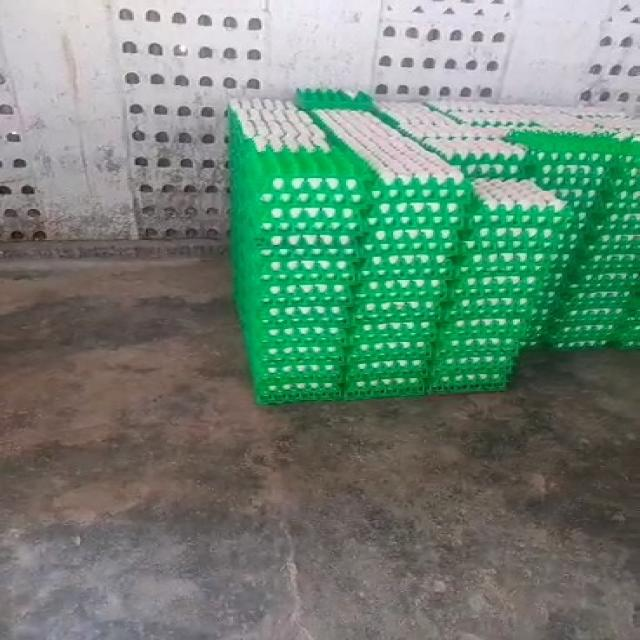egg_tray: (320, 112, 464, 396), (235, 101, 360, 400), (115, 1, 266, 239), (433, 181, 567, 390), (433, 181, 563, 390), (322, 111, 466, 272), (336, 116, 466, 280), (320, 111, 466, 255), (231, 101, 362, 257), (233, 99, 363, 245), (231, 102, 357, 232), (381, 103, 593, 177), (466, 181, 572, 321), (537, 137, 637, 283), (117, 1, 266, 95), (376, 0, 513, 98), (130, 103, 226, 239), (317, 110, 463, 197), (237, 244, 353, 343), (242, 290, 346, 400), (235, 219, 357, 308), (259, 114, 363, 218), (346, 279, 442, 390), (250, 155, 363, 249), (461, 181, 572, 276), (243, 301, 346, 399), (551, 230, 637, 347), (238, 172, 362, 253), (348, 276, 445, 377), (548, 237, 637, 347), (231, 101, 327, 201), (243, 299, 346, 390), (468, 181, 572, 270), (510, 132, 623, 213), (238, 275, 348, 357), (558, 213, 638, 325), (238, 236, 355, 308), (235, 188, 357, 257), (0, 72, 50, 240), (377, 101, 600, 138), (527, 204, 584, 346), (363, 201, 464, 280), (237, 223, 357, 289), (243, 281, 350, 355), (362, 203, 463, 281), (428, 312, 525, 391), (428, 311, 525, 390), (457, 246, 555, 320), (348, 312, 435, 394), (245, 292, 348, 359), (518, 139, 612, 210), (581, 0, 638, 110), (243, 303, 346, 361), (245, 321, 344, 377), (228, 106, 261, 272), (348, 312, 435, 372), (377, 102, 510, 141), (430, 101, 595, 132), (231, 98, 327, 151), (261, 157, 362, 204), (355, 277, 445, 324), (0, 157, 50, 240), (247, 249, 353, 285), (424, 139, 523, 177), (363, 219, 456, 258), (602, 134, 638, 232), (437, 317, 525, 356), (355, 274, 445, 312), (536, 105, 638, 138), (256, 203, 360, 235), (362, 243, 450, 280), (537, 152, 605, 199), (365, 199, 464, 231), (257, 323, 344, 359), (536, 106, 633, 138), (430, 101, 551, 126), (433, 337, 518, 372), (350, 339, 424, 378), (384, 0, 517, 21), (598, 166, 638, 234), (475, 181, 563, 210), (254, 374, 339, 404), (445, 292, 536, 320), (511, 105, 597, 134), (256, 280, 350, 305), (351, 316, 437, 343), (452, 272, 537, 298), (590, 221, 638, 266), (263, 361, 341, 388), (428, 369, 511, 394), (346, 373, 424, 399), (377, 101, 452, 128), (570, 265, 638, 294), (0, 196, 45, 239), (523, 292, 557, 348), (0, 65, 21, 155), (546, 323, 616, 348), (562, 103, 633, 126), (296, 89, 372, 110), (534, 110, 600, 134), (574, 289, 637, 312), (565, 298, 624, 321), (595, 115, 638, 141), (616, 294, 637, 347), (362, 281, 414, 299), (616, 320, 638, 348), (372, 228, 419, 241), (403, 230, 431, 246), (417, 280, 435, 295), (270, 257, 292, 266), (0, 141, 14, 154), (496, 286, 504, 307), (383, 231, 397, 243), (273, 261, 296, 267), (513, 253, 525, 261), (565, 310, 572, 320), (271, 239, 282, 245), (231, 105, 237, 116), (2, 161, 10, 168), (376, 239, 381, 248), (287, 239, 294, 245), (238, 163, 245, 169), (504, 255, 510, 261), (341, 235, 348, 239), (315, 289, 322, 292), (304, 305, 311, 308), (536, 254, 543, 257), (409, 244, 414, 248), (586, 278, 590, 282), (310, 352, 315, 355), (626, 119, 630, 122), (273, 258, 277, 261), (352, 194, 356, 196), (348, 116, 351, 118), (235, 212, 238, 214), (247, 177, 249, 180), (605, 311, 607, 314), (621, 279, 622, 284), (292, 239, 294, 241), (614, 214, 616, 216), (271, 388, 273, 390), (318, 289, 322, 290), (558, 314, 560, 316), (402, 138, 403, 142), (303, 284, 306, 285), (256, 155, 259, 156), (331, 236, 332, 239), (560, 341, 563, 342), (308, 290, 309, 292), (590, 312, 591, 314), (546, 186, 548, 187), (421, 265, 422, 267), (475, 242, 476, 244), (504, 0, 505, 1)
